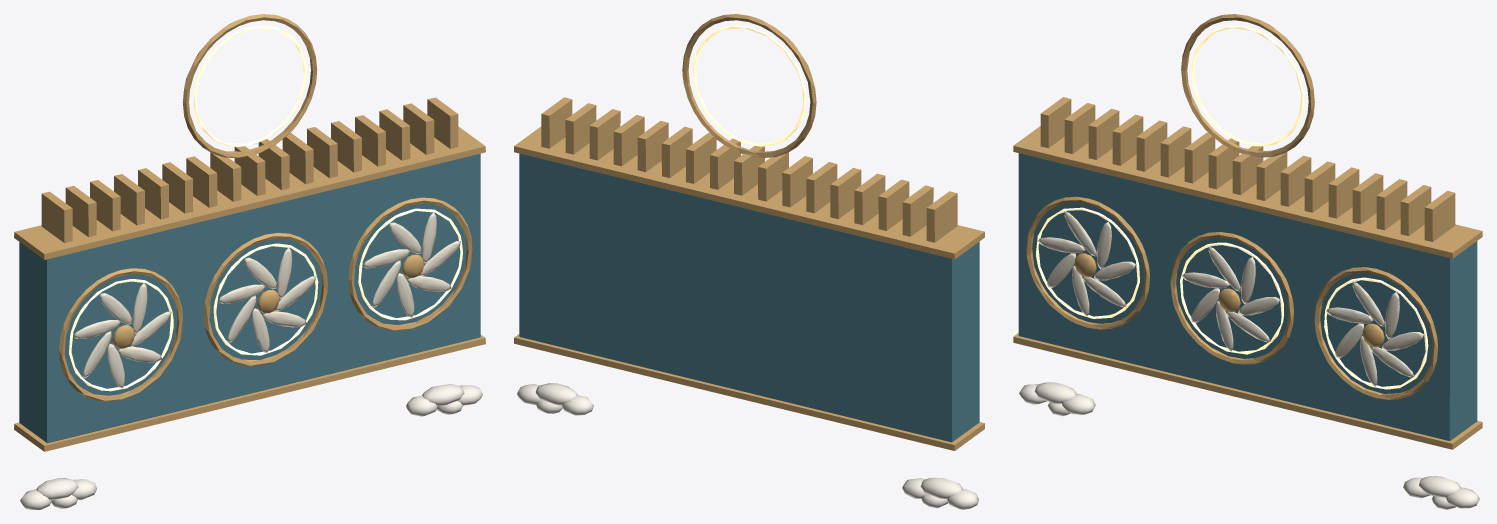
Rendered from div3_gpu_body.glb.
3 views of the same model, side by side, from view 1: azimuth 30°, elevation 25°; view 2: azimuth 150°, elevation 25°; view 3: azimuth 330°, elevation 25° (orthographic).
Parts seen in each view (by area): view 1: div3_gpu_body__glazed-petrol, div3_gpu_body__satin-honey-brass, div3_gpu_body__porcelain-ivory, div3_gpu_body__warm-luminous, div3_gpu_body__cloud-cream; view 2: div3_gpu_body__glazed-petrol, div3_gpu_body__satin-honey-brass, div3_gpu_body__cloud-cream, div3_gpu_body__warm-luminous; view 3: div3_gpu_body__glazed-petrol, div3_gpu_body__satin-honey-brass, div3_gpu_body__porcelain-ivory, div3_gpu_body__warm-luminous, div3_gpu_body__cloud-cream.
Boxes of the visible parts, x1,y1,x2,y2 form: div3_gpu_body__glazed-petrol: [19, 153, 480, 443]; div3_gpu_body__satin-honey-brass: [14, 14, 485, 451]; div3_gpu_body__porcelain-ivory: [73, 212, 460, 388]; div3_gpu_body__warm-luminous: [69, 25, 462, 391]; div3_gpu_body__cloud-cream: [20, 384, 482, 509]; div3_gpu_body__glazed-petrol: [519, 153, 979, 442]; div3_gpu_body__satin-honey-brass: [514, 14, 984, 450]; div3_gpu_body__cloud-cream: [517, 383, 978, 509]; div3_gpu_body__warm-luminous: [693, 25, 805, 146]; div3_gpu_body__glazed-petrol: [1018, 153, 1477, 440]; div3_gpu_body__satin-honey-brass: [1013, 14, 1482, 449]; div3_gpu_body__porcelain-ivory: [1038, 211, 1423, 386]; div3_gpu_body__warm-luminous: [1036, 25, 1428, 389]; div3_gpu_body__cloud-cream: [1019, 382, 1479, 509].
Size of the model in its own units: 57.2 by 52.96 by 7.77.
